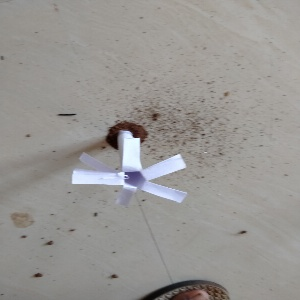weed: (68, 129, 198, 203)
